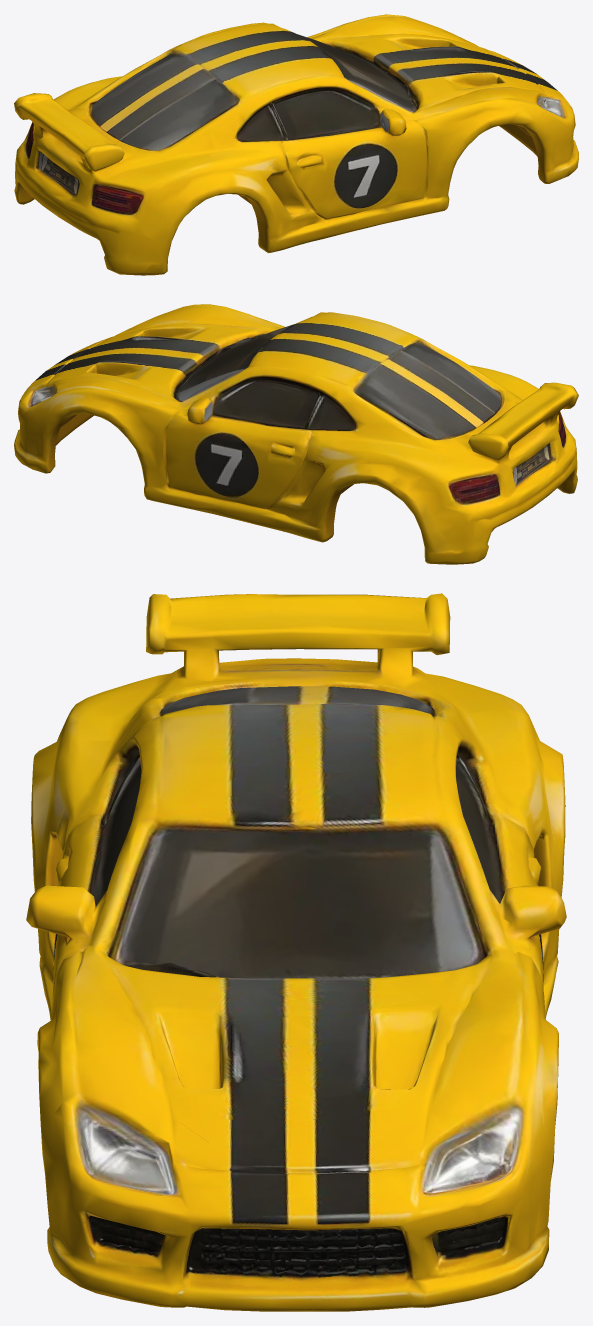
The model's file is car-blitz.glb.
The picture shows the model from 3 angles, top to bottom: view 1: azimuth 30°, elevation 25°; view 2: azimuth 150°, elevation 25°; view 3: azimuth 270°, elevation 25°; orthographic projection. The views are drawn at different scales.
Parts seen in each view (by area): view 1: tripo_node_05138e1a-8f1e-4ef9-b489-d6bd0284ba75; view 2: tripo_node_05138e1a-8f1e-4ef9-b489-d6bd0284ba75; view 3: tripo_node_05138e1a-8f1e-4ef9-b489-d6bd0284ba75.
Part boxes in pixels (box(x1,y1,x2,y2)): tripo_node_05138e1a-8f1e-4ef9-b489-d6bd0284ba75: box(14, 14, 578, 275); tripo_node_05138e1a-8f1e-4ef9-b489-d6bd0284ba75: box(14, 304, 578, 564); tripo_node_05138e1a-8f1e-4ef9-b489-d6bd0284ba75: box(26, 593, 566, 1311).
Bounding box in the file's own units: 1 × 0.2804 × 0.4722.
Materials: 1 (1 with a texture image).
